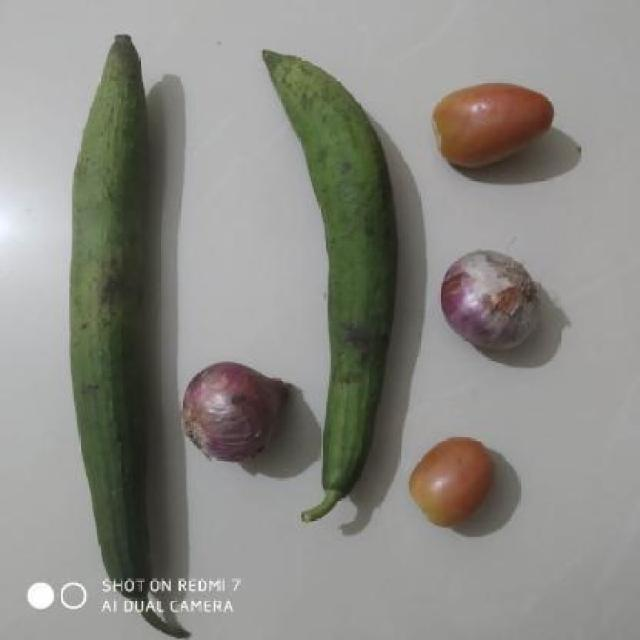onion: (433, 247, 560, 363), (185, 363, 294, 469)
